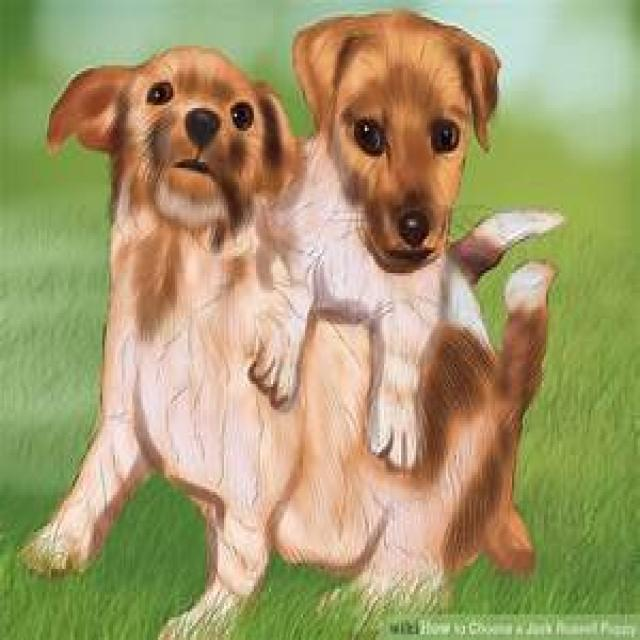KOPEK: (24, 45, 544, 597), (280, 21, 490, 517)
